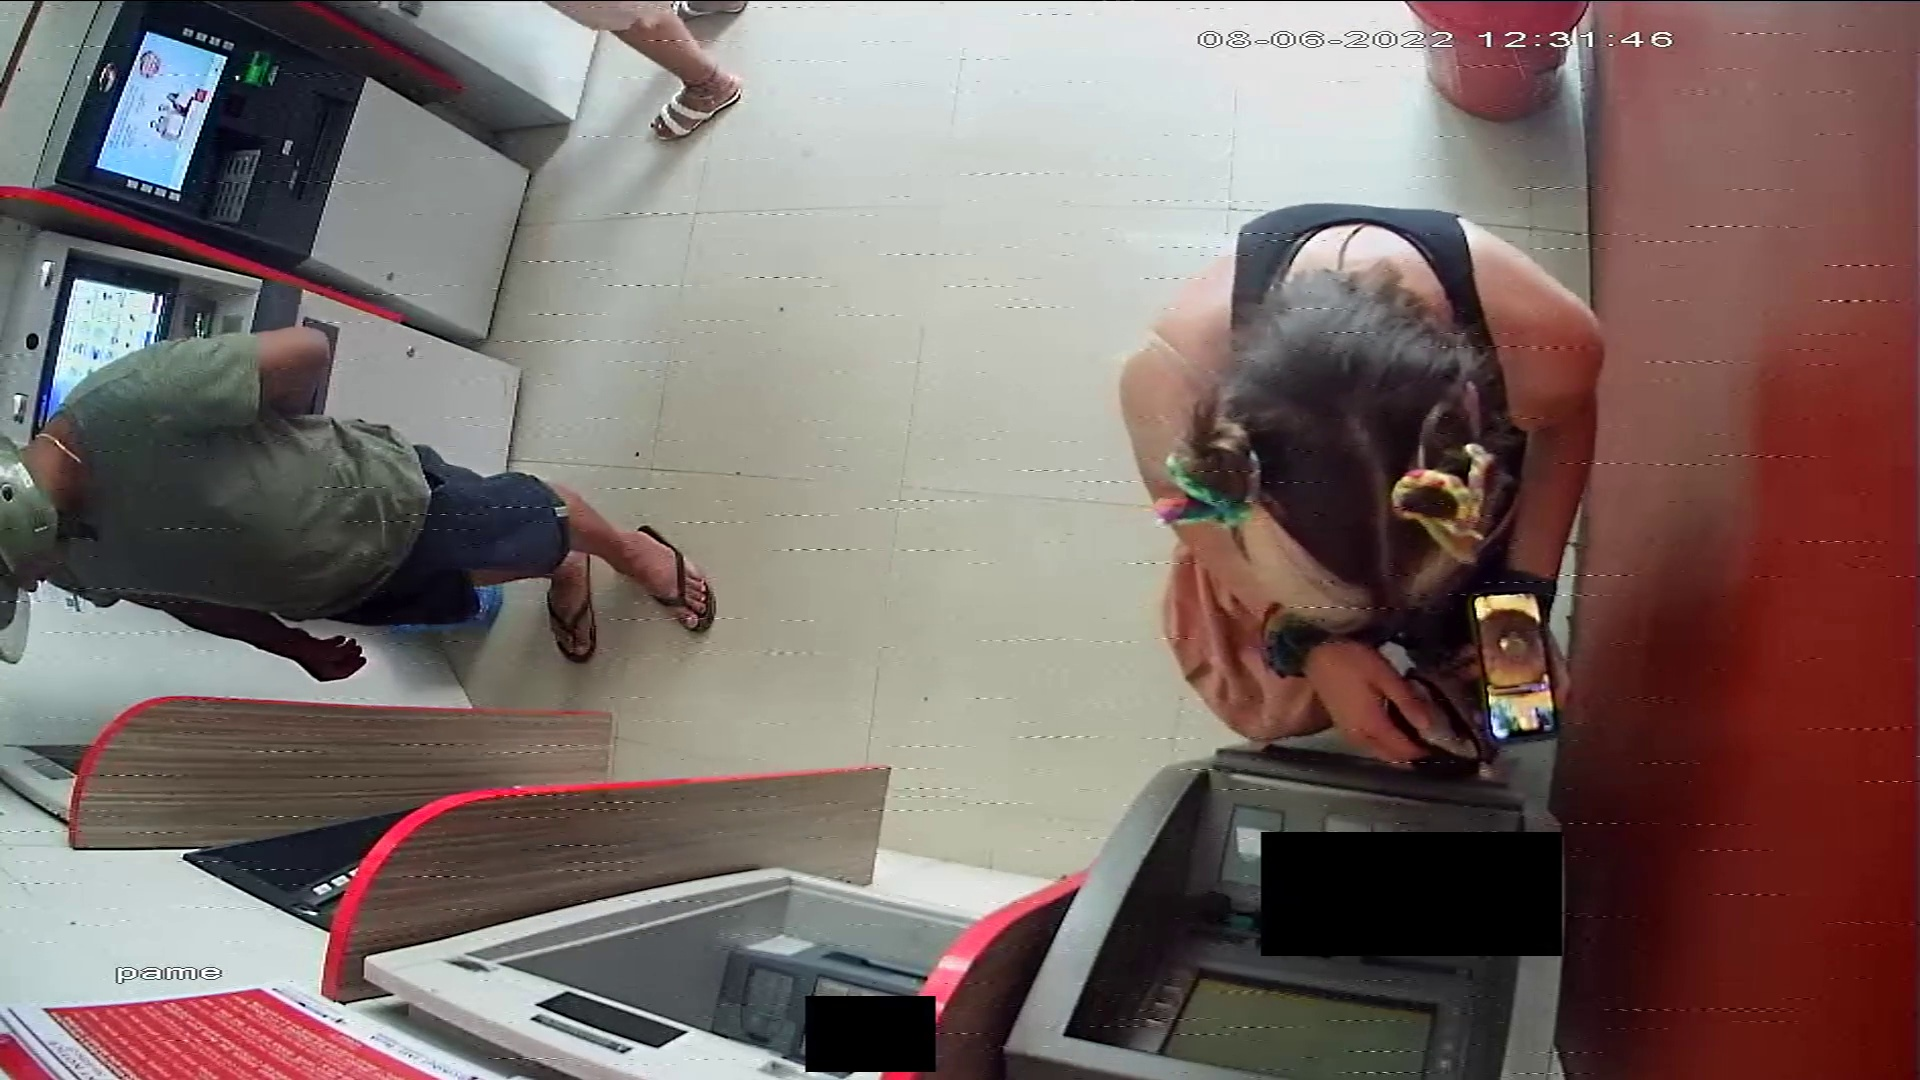helmet: (1, 435, 57, 661)
person: (1118, 202, 1606, 762), (1, 324, 718, 683)
phone: (1470, 591, 1558, 742)
